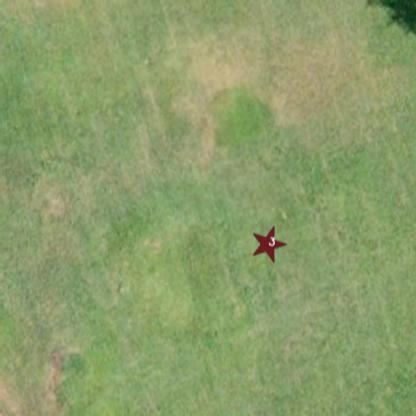3: (269, 236, 278, 249)
star: (246, 226, 288, 264)
